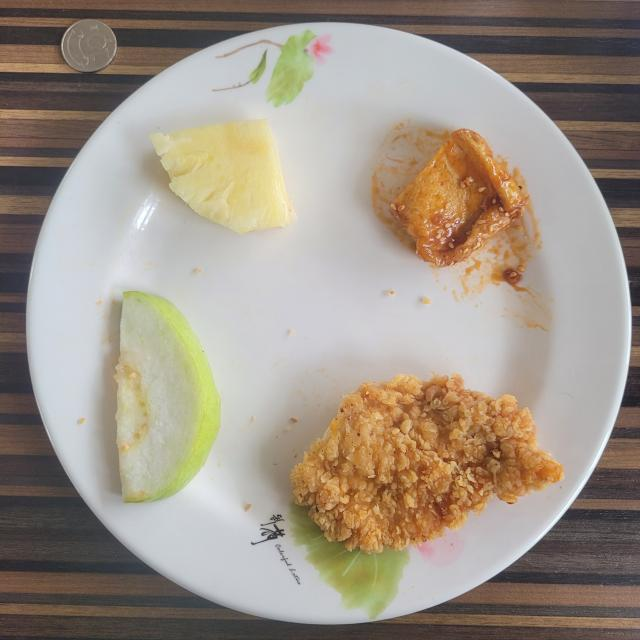coin: (61, 19, 118, 72)
creamy tofu: (390, 129, 529, 266)
fried chicken cutlet: (290, 374, 564, 554)
guava -sliced-: (114, 291, 220, 502)
pineapple: (150, 119, 292, 234)
